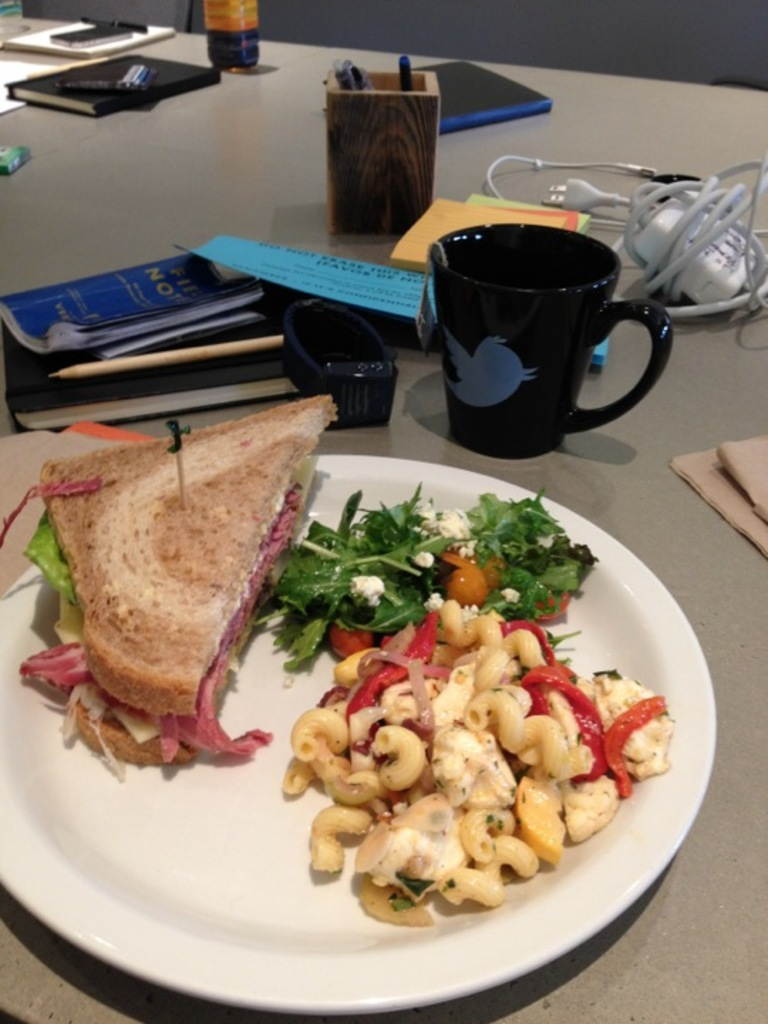sandwich: (0, 393, 329, 769)
